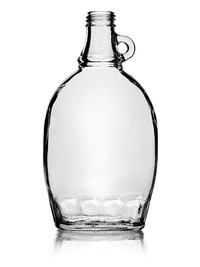glass_bottle: (39, 8, 162, 237)
